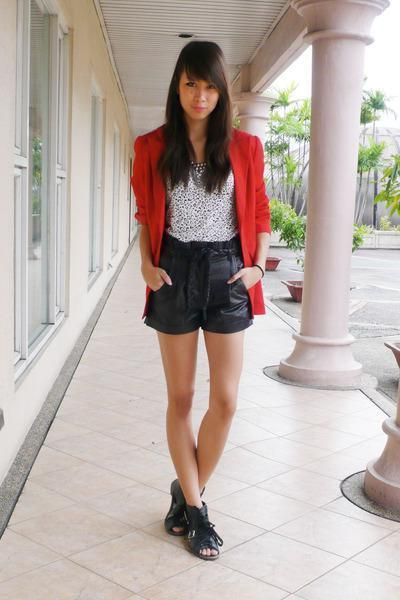Shorts: (141, 233, 255, 335)
jacket: (130, 124, 274, 321)
short sleeve shirt: (156, 150, 250, 251)
